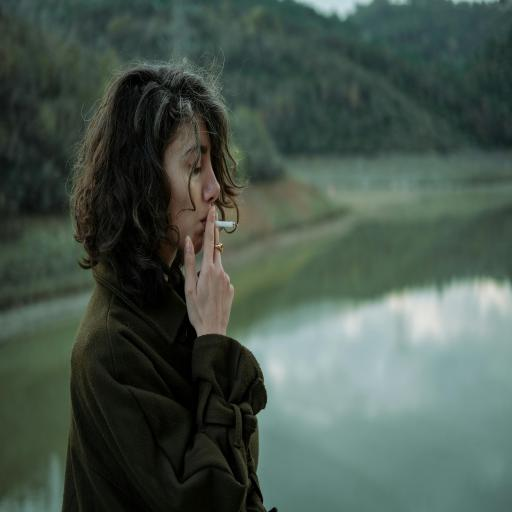terdeteksi merokok: (169, 107, 244, 265)
